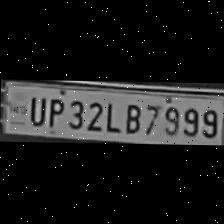2: (84, 98, 103, 132)
3: (65, 96, 83, 129)
7: (140, 100, 160, 135)
9: (158, 102, 180, 136), (198, 104, 218, 138), (180, 103, 198, 136)
B: (120, 100, 140, 134)
L: (102, 98, 120, 132)
P: (43, 94, 62, 128)
U: (24, 94, 46, 125)
